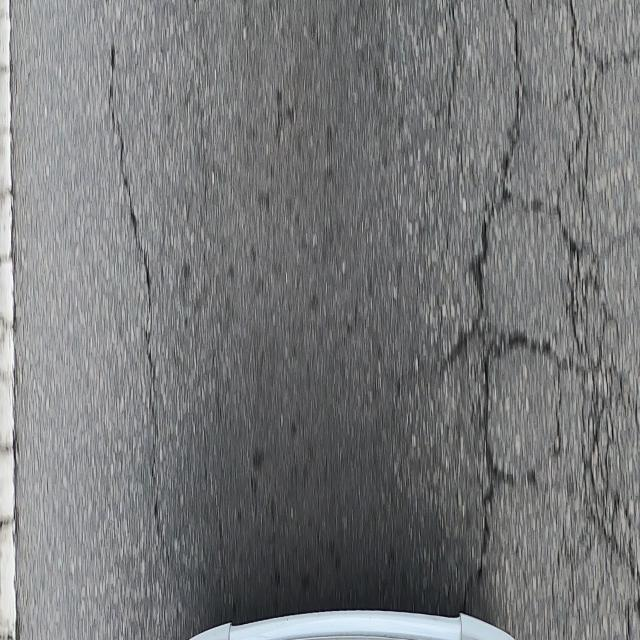Retak-Buaya: (445, 0, 639, 613)
Retak-Memanjang: (107, 48, 160, 539)
